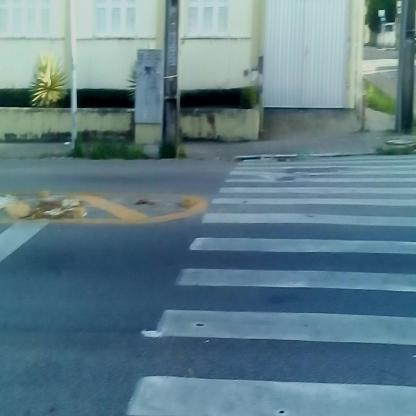crosswalk: (165, 160, 416, 416)
sidewalk: (217, 107, 412, 167)
